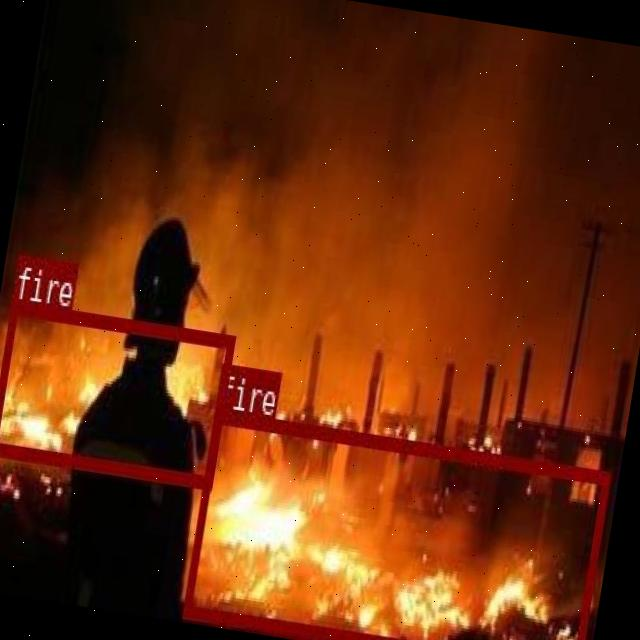fire: (182, 409, 608, 640), (0, 299, 233, 485)
